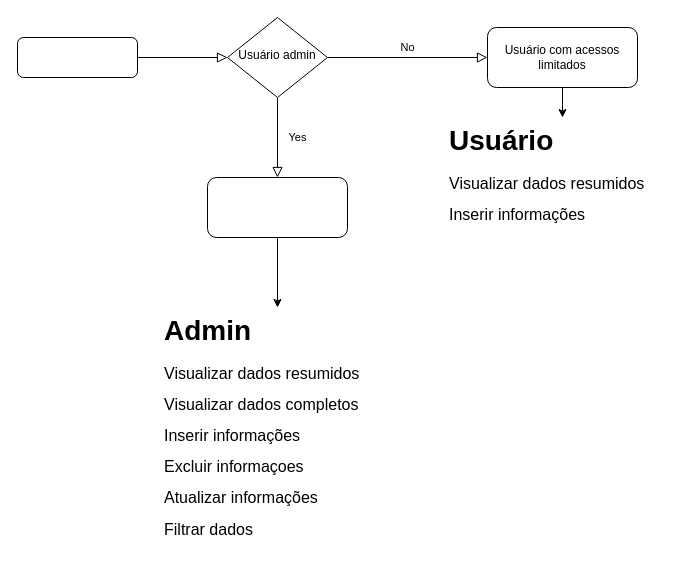
Image size: 695x578. Some labels were removed from this diagram. Each missing label, with the box of its shape:
Admin com acesso completo: (206, 176, 348, 238)
Tela de Login: (16, 36, 138, 78)
